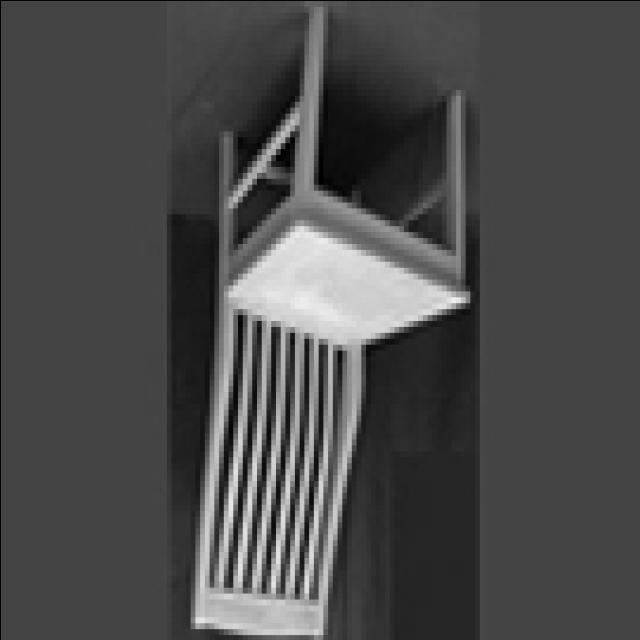chair: (188, 7, 473, 637)
